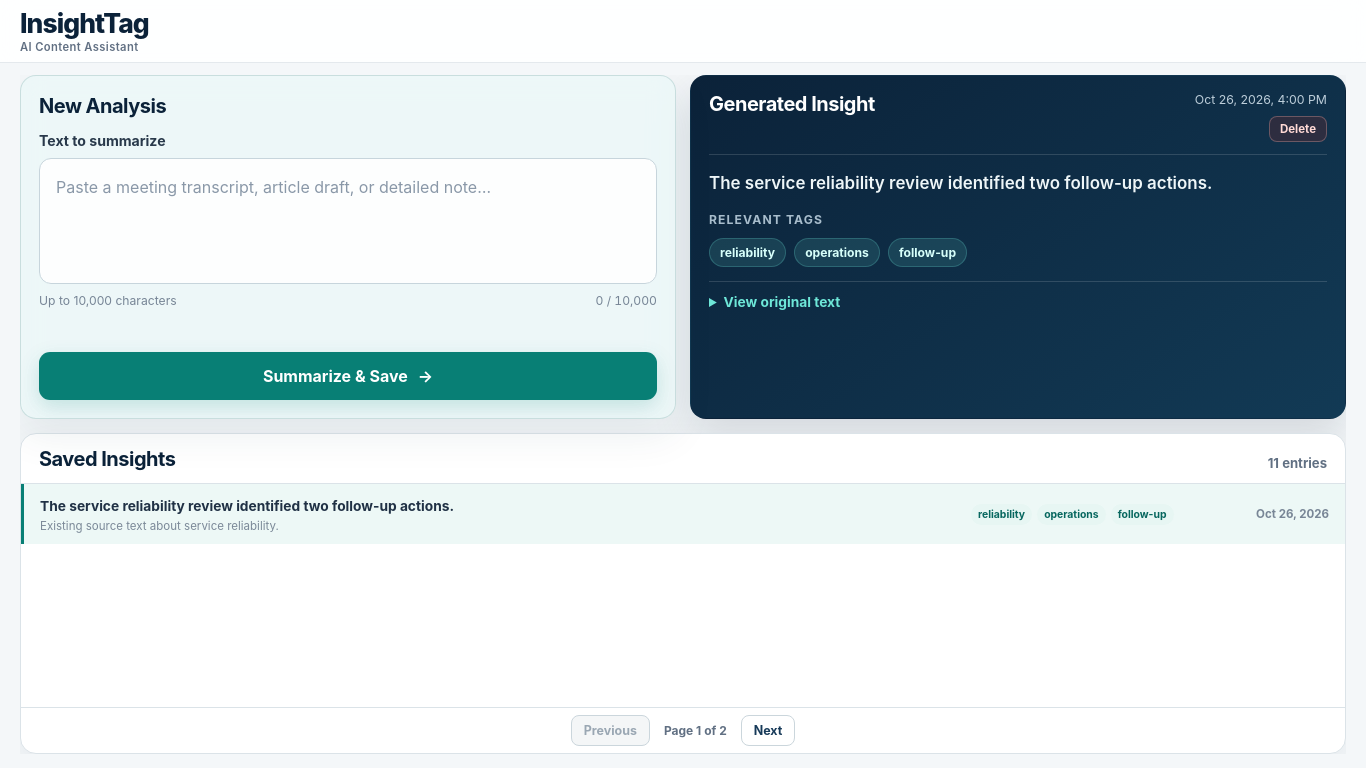
Test case: InsightTag smoke flow › navigates between server pages and disables boundary controls
Expected: the text "Page 1 of 2" is shown, [664,723,727,738]
Expected: the button "Previous" is disabled, [571,715,650,746]
Click the button "Next".
click(768, 730)  # box [741,715,795,746]
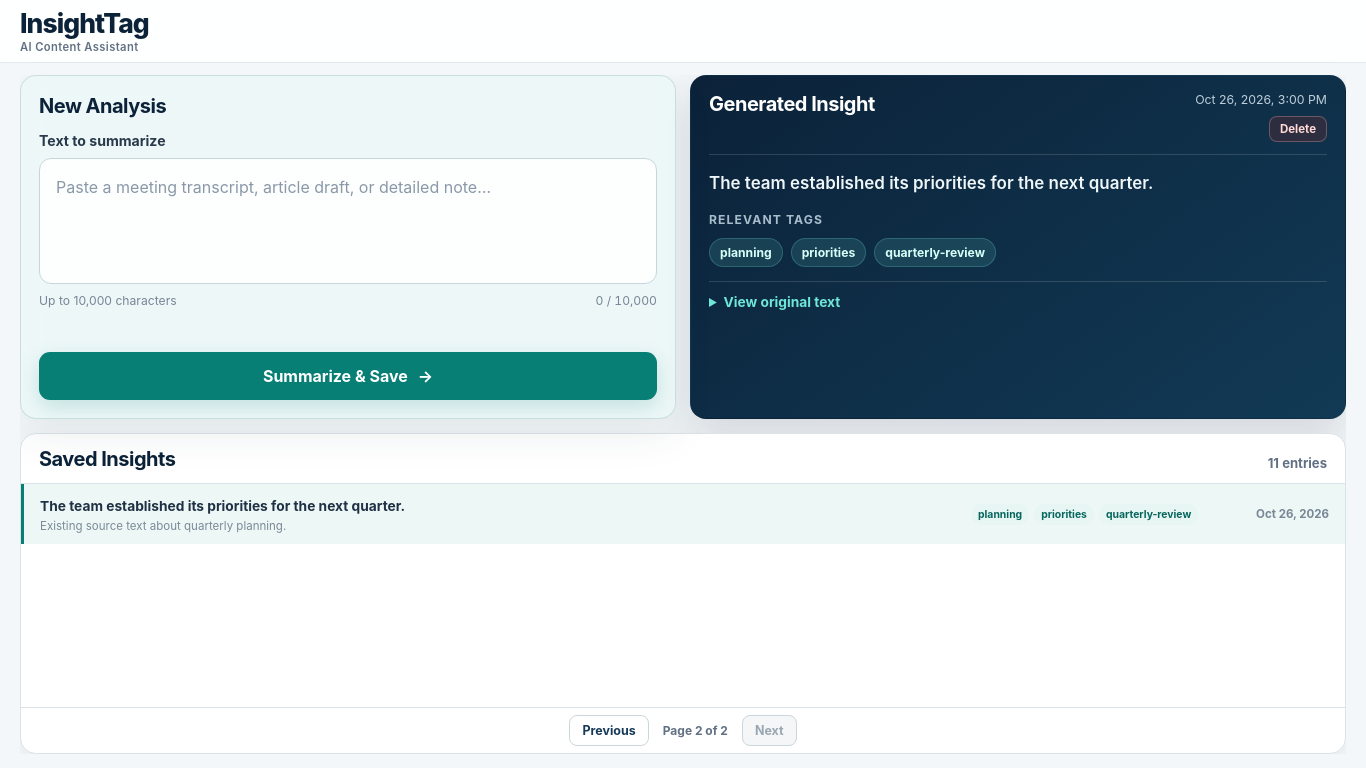
Now the text "Page 2 of 2" is shown, box [663,723,728,738]
Now the button "The team established its priorities for the next quarter." is shown, box [21,484,1345,544]
Now the button "Next" is disabled, box [742,715,797,746]
Click the button "Previous".
click(609, 730)  # box [569,715,649,746]
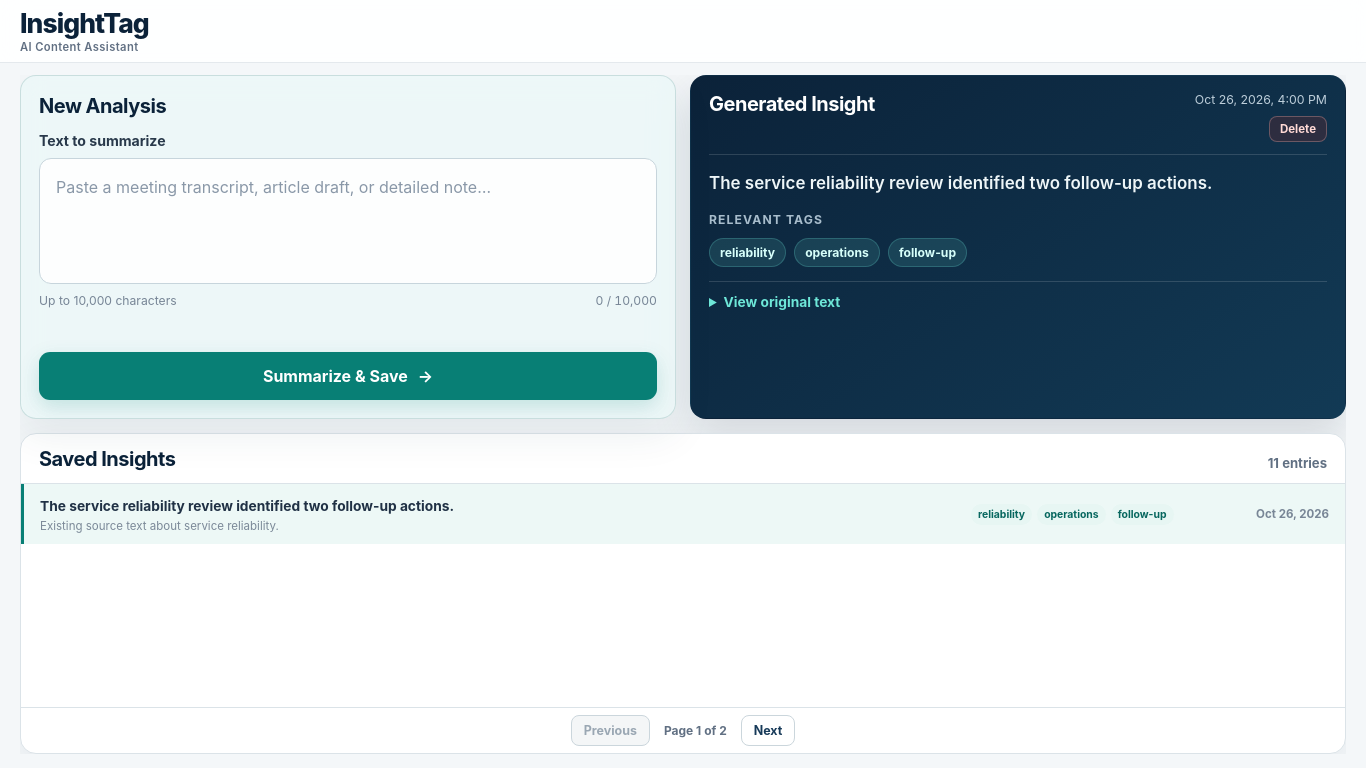
Now the text "Page 1 of 2" is shown, box [664,723,727,738]
Now the button "The service reliability review identified two follow-up actions." is shown, box [21,484,1345,544]
